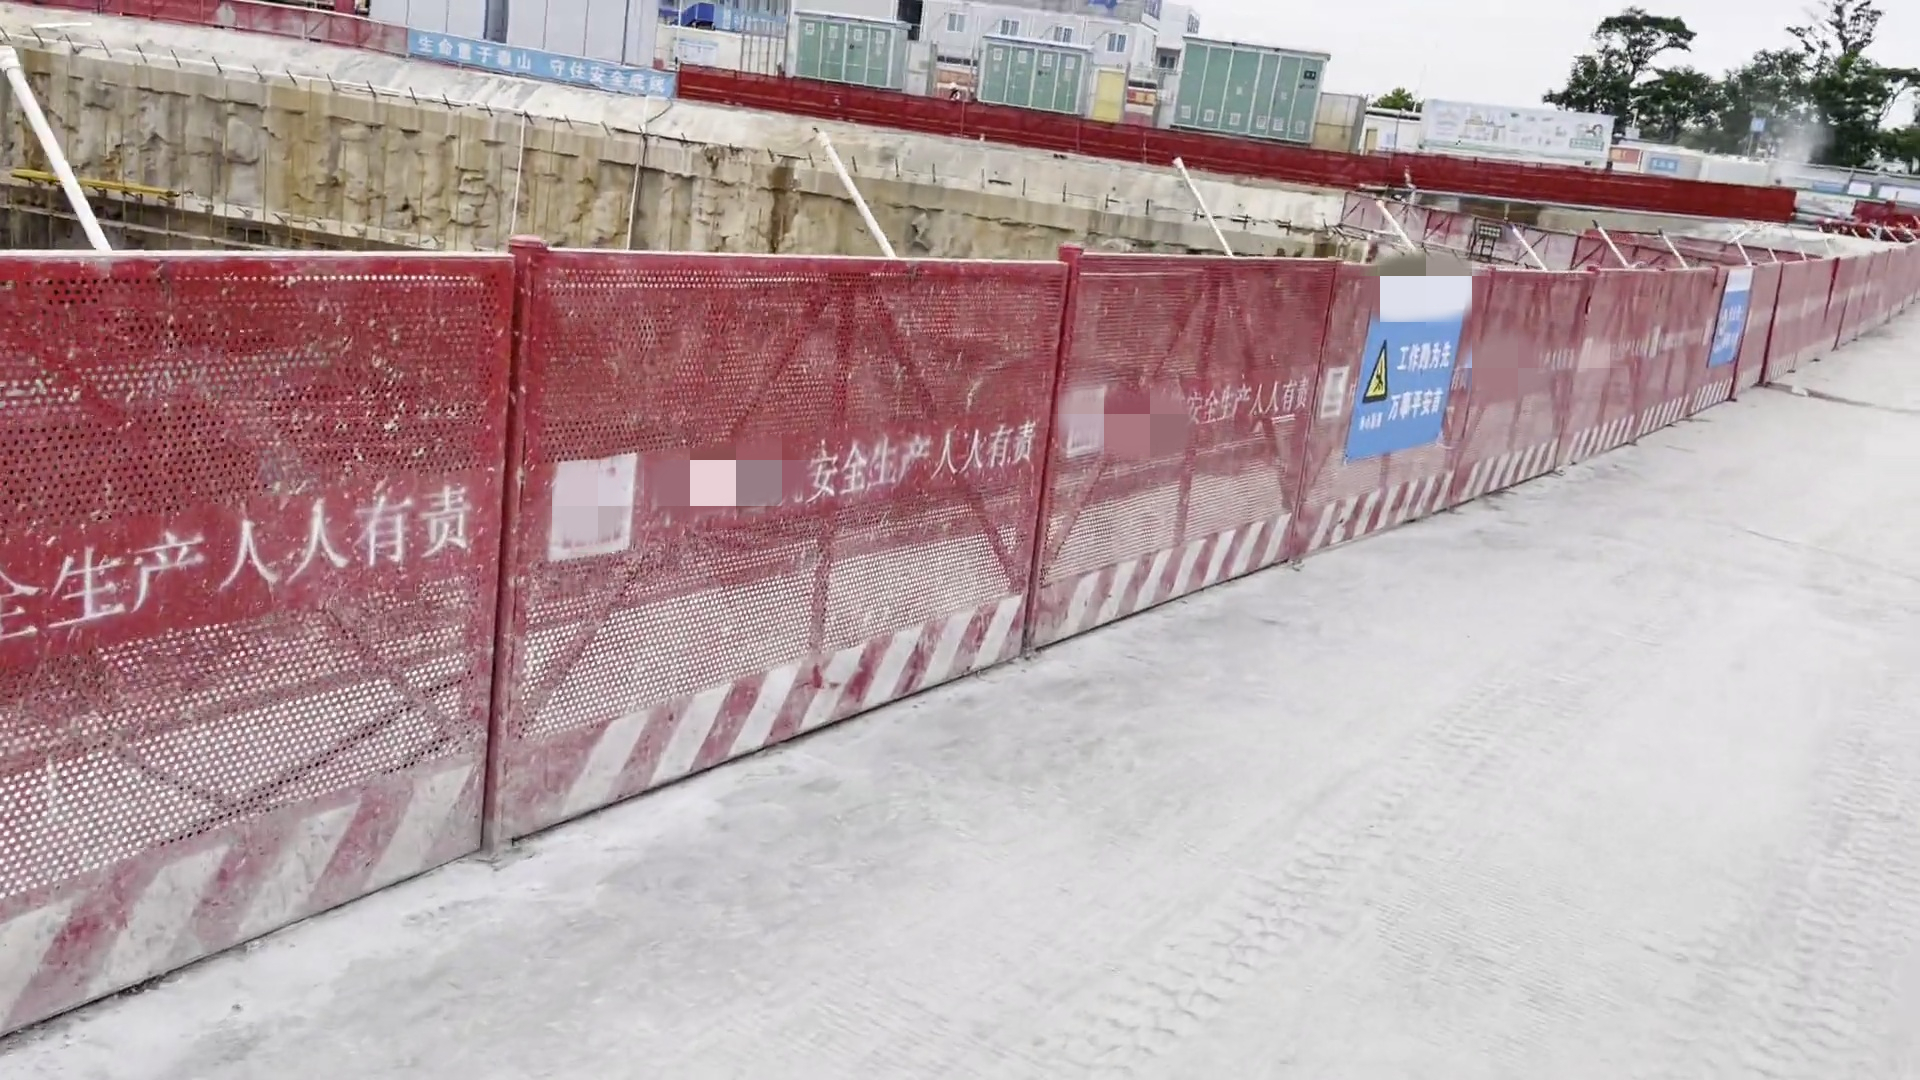fence: (8, 255, 1920, 1022), (11, 1, 1903, 245)
slogan: (1, 477, 465, 651), (785, 411, 1043, 504), (405, 34, 670, 94), (1159, 369, 1307, 435)
